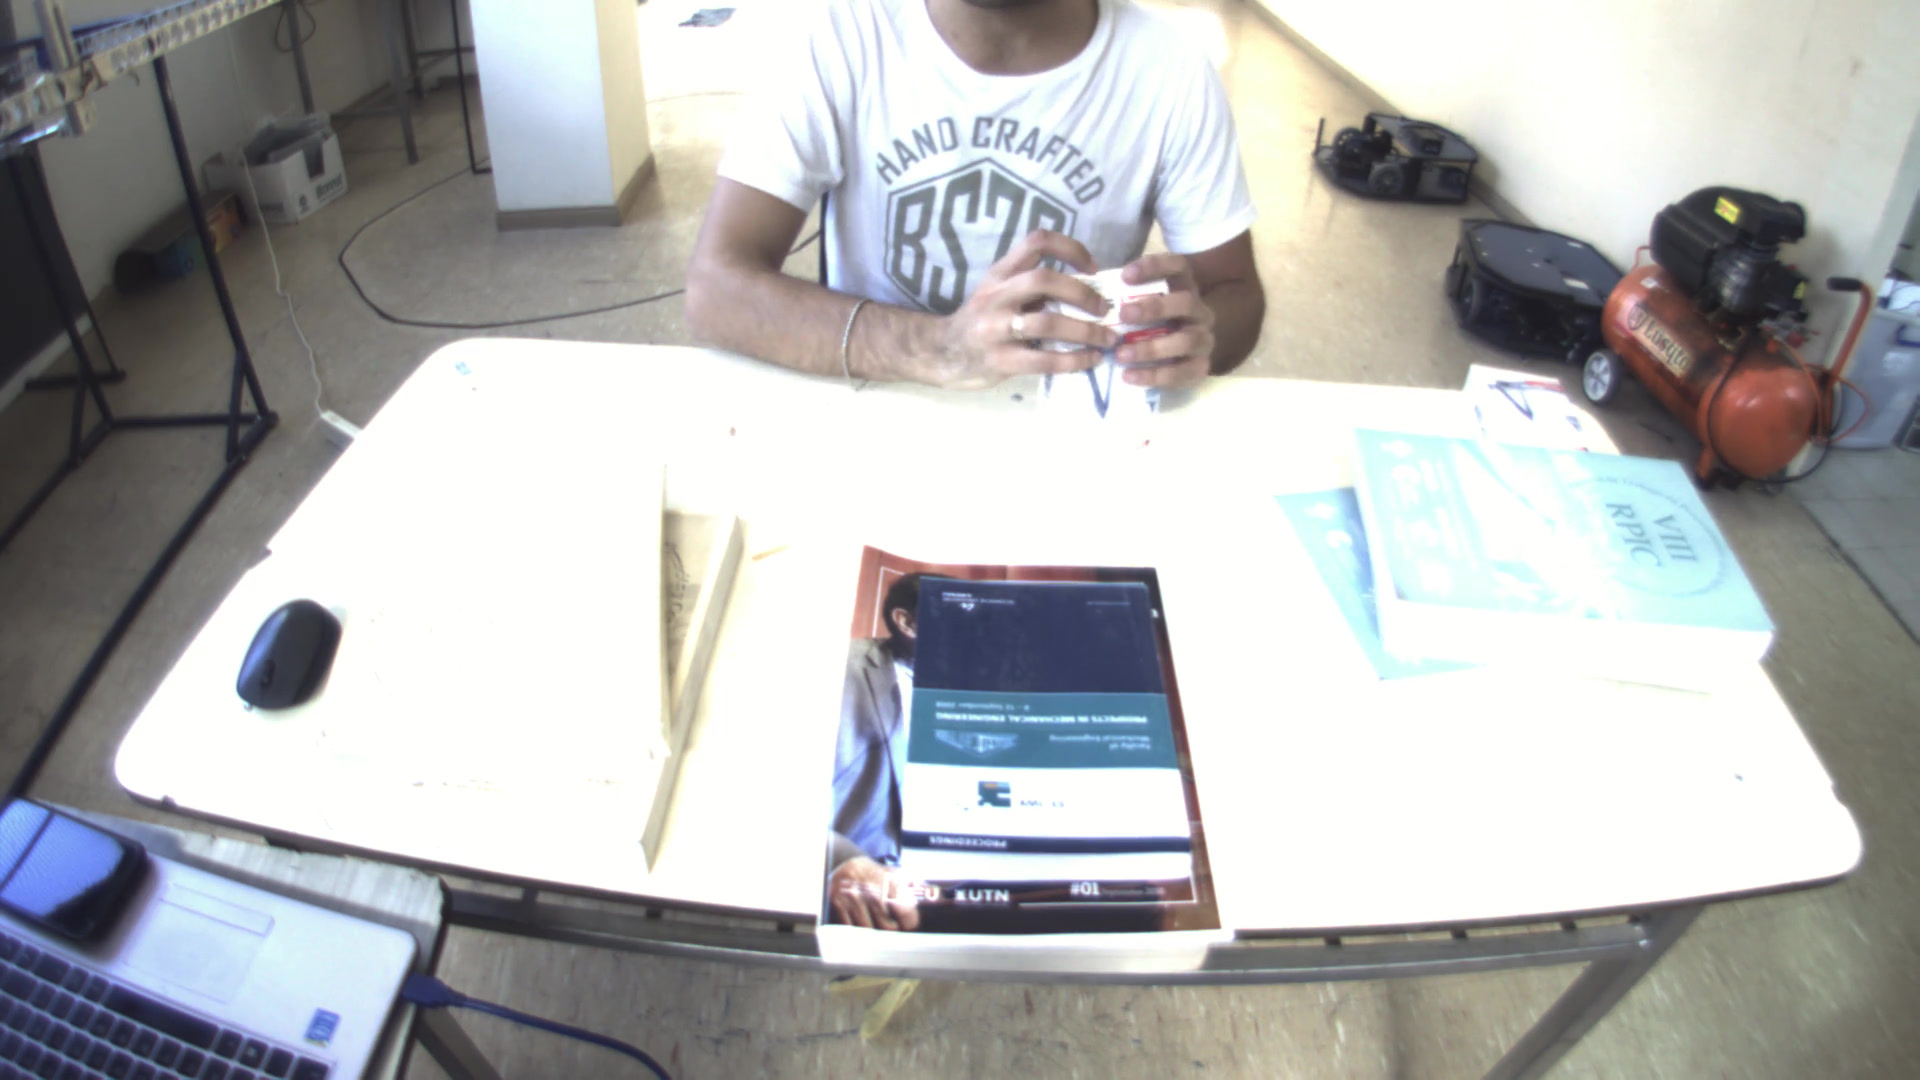hand: (915, 218, 1127, 398), (1114, 239, 1232, 409)
